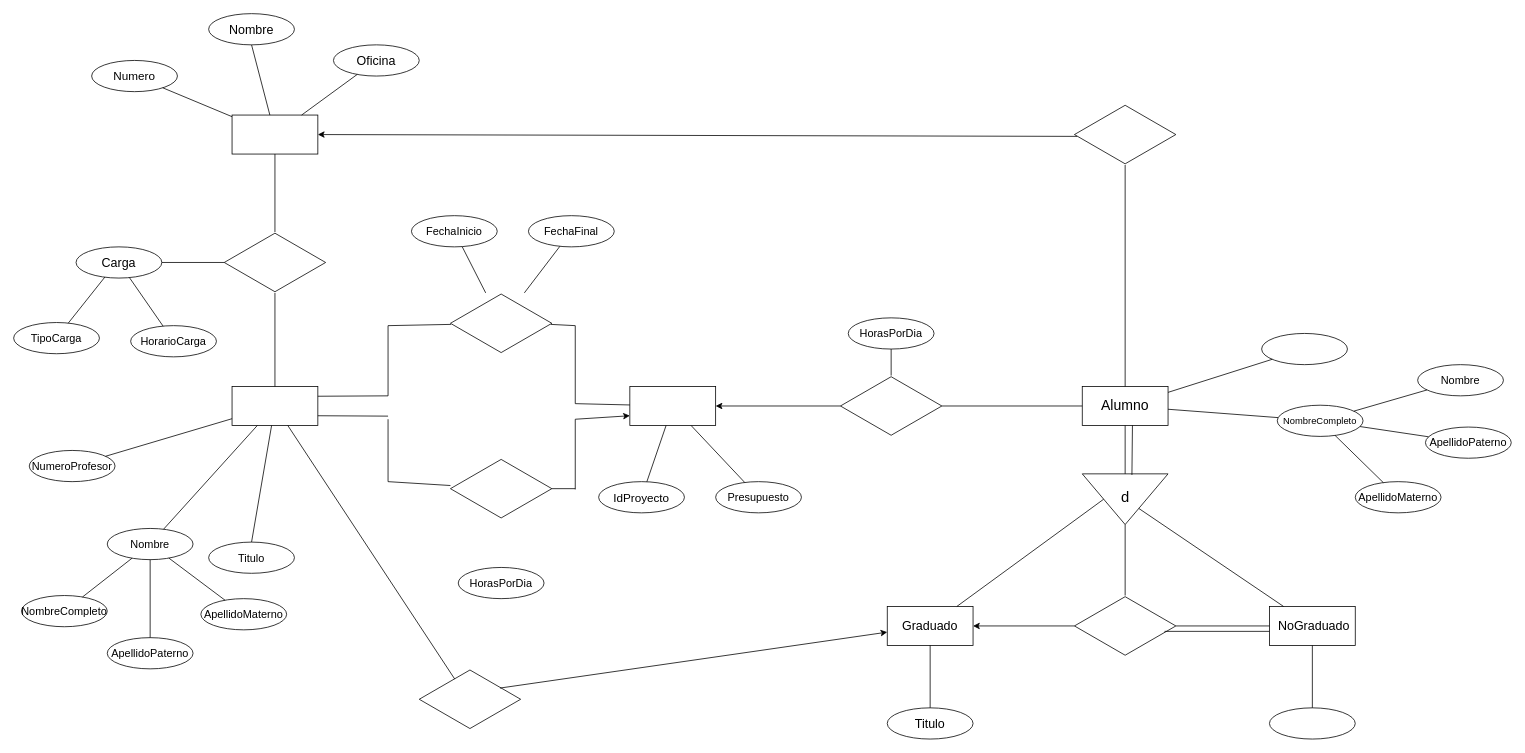
Some shapes in this 1525 by 753 pixel diagram are drawn without their labels. Each missing label, with the centre of its shape:
Administrar: [501,323]
Departamento: [274,134]
Estudiar: [1125,134]
NumCuenta: [1304,349]
NumExpediente: [1312,723]
Participar: [891,405]
Profesor: [274,405]
Proyecto: [672,405]
Supervisar: [469,699]
Trabajar: [274,262]
Trabajo: [501,488]
Tutorizar: [1125,625]
